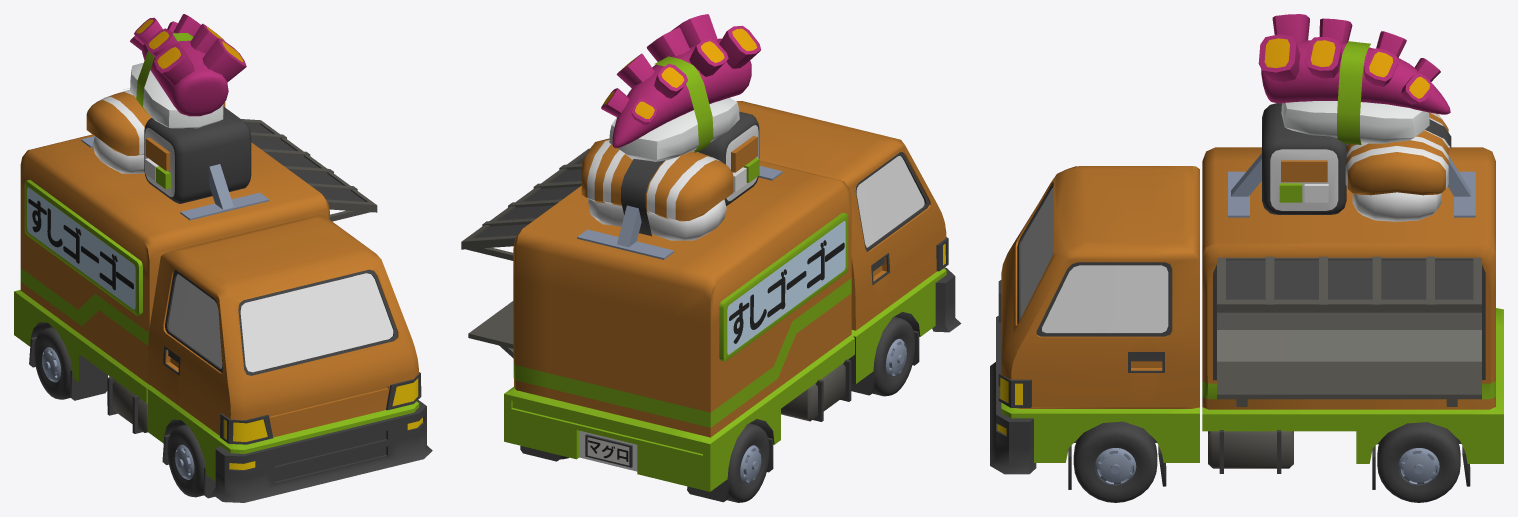
Rendered from sushi-truck.glb.
3 views of the same model, side by side, from view 1: azimuth 30°, elevation 25°; view 2: azimuth 150°, elevation 25°; view 3: azimuth 270°, elevation 25° (orthographic). The views are drawn at different scales.
Visible parts, largest first — view 1: Truck; view 2: Truck; view 3: Truck.
Part boxes in pixels (x1,y1,x2,y2): Truck: [14, 14, 432, 502]; Truck: [461, 14, 961, 502]; Truck: [990, 14, 1503, 502].
Bounding box in the file's own units: 5.1 × 7.31 × 7.98.
3 materials, 1 textured.
